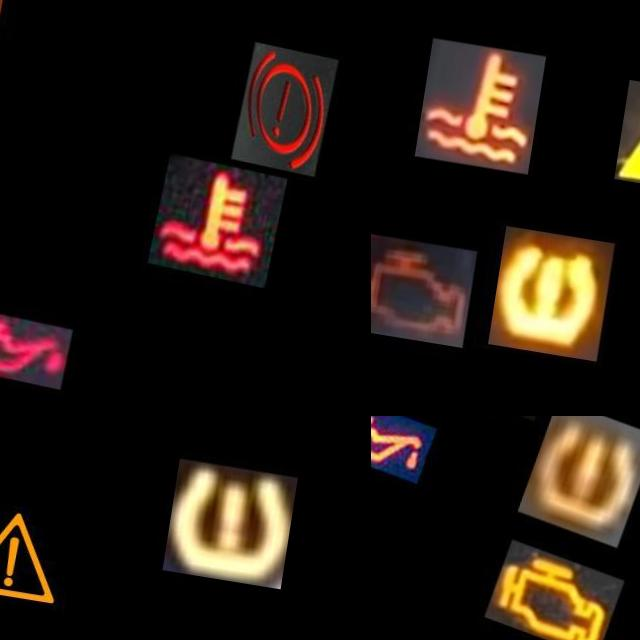Central Warning lamp: (0, 480, 84, 613)
Engine cooling system: (155, 137, 294, 270), (420, 30, 548, 162)
